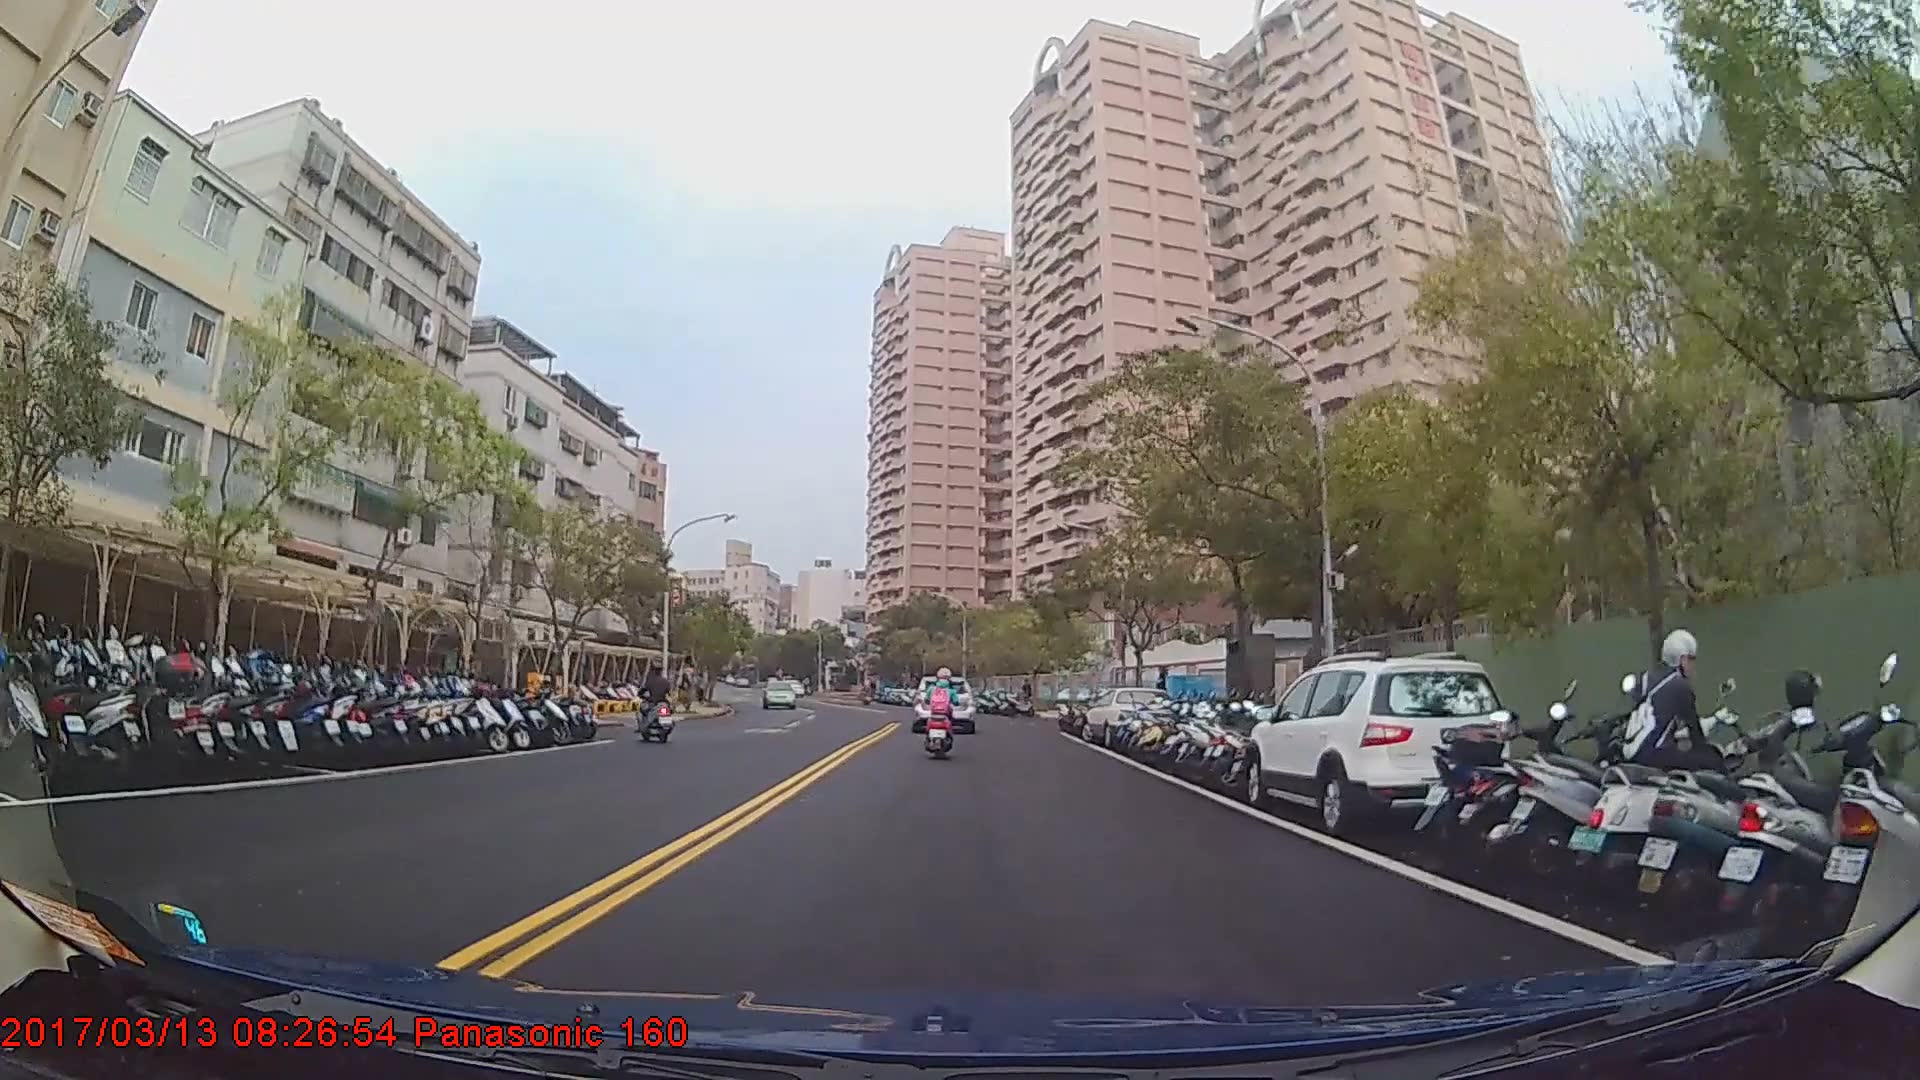rider: (921, 662, 962, 765), (636, 664, 673, 748)
vehicle: (1240, 657, 1516, 833), (1080, 685, 1172, 751), (909, 675, 973, 732), (759, 680, 797, 709)
